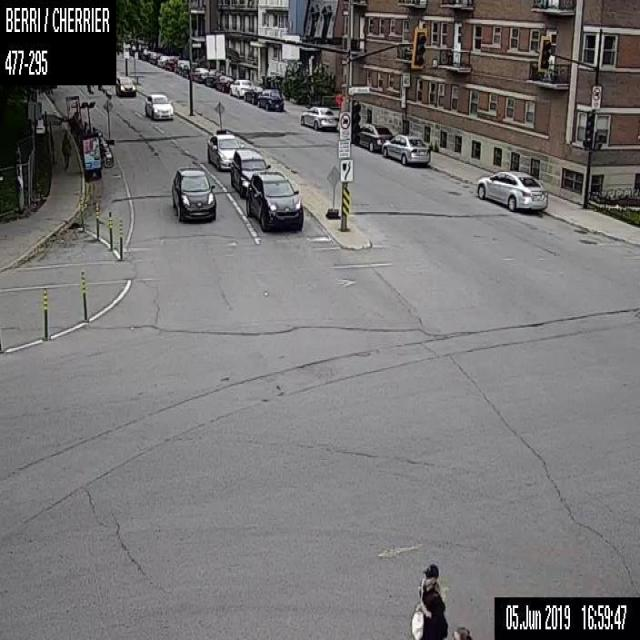construction: (325, 165, 340, 219), (102, 99, 114, 145), (79, 268, 87, 319), (212, 101, 225, 128), (43, 284, 47, 340), (118, 217, 123, 259), (108, 210, 113, 250), (79, 198, 85, 230), (95, 200, 99, 239), (335, 92, 342, 105)
pedestrian: (409, 562, 449, 638), (61, 131, 71, 169), (450, 624, 472, 639)
vehicle: (245, 170, 302, 232), (169, 163, 216, 225), (476, 170, 547, 209), (230, 148, 270, 196), (382, 134, 429, 163), (207, 133, 243, 169), (355, 123, 392, 150), (300, 105, 338, 128), (144, 93, 173, 120), (257, 88, 283, 111), (229, 79, 253, 97), (115, 76, 136, 96), (244, 85, 264, 102), (215, 75, 234, 92), (204, 69, 222, 86), (193, 66, 208, 82), (182, 62, 197, 77), (165, 57, 177, 69), (148, 52, 160, 63), (157, 54, 167, 67), (141, 48, 151, 58)
